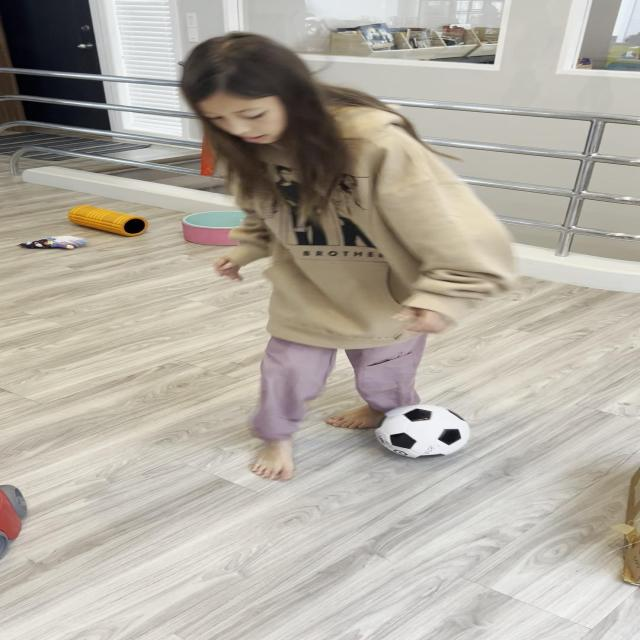Soccer Ball: (377, 404, 470, 457)
